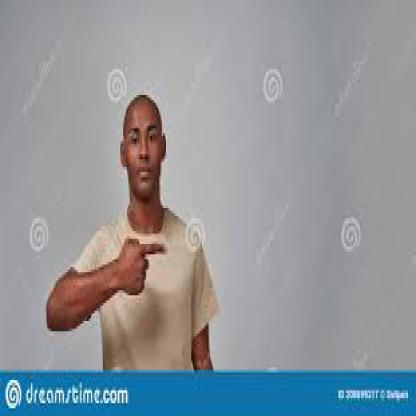Left: (112, 229, 173, 301)
